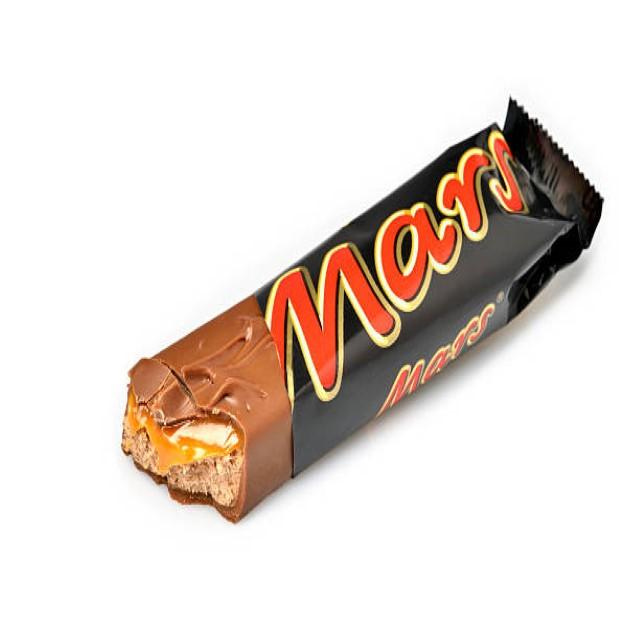mars_chocolate: (238, 130, 550, 460)
